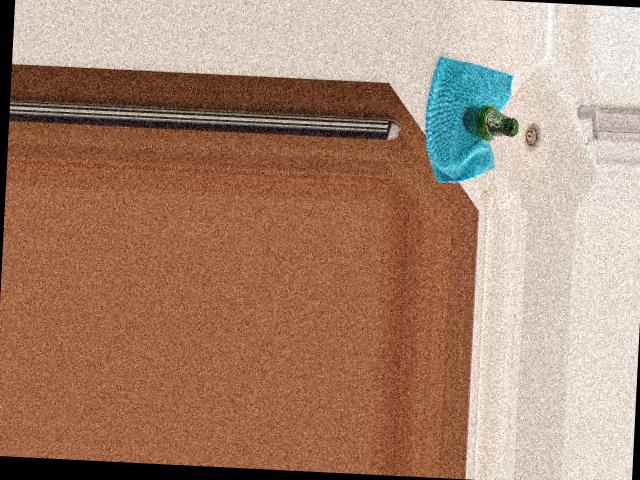beer: (461, 104, 518, 142)
